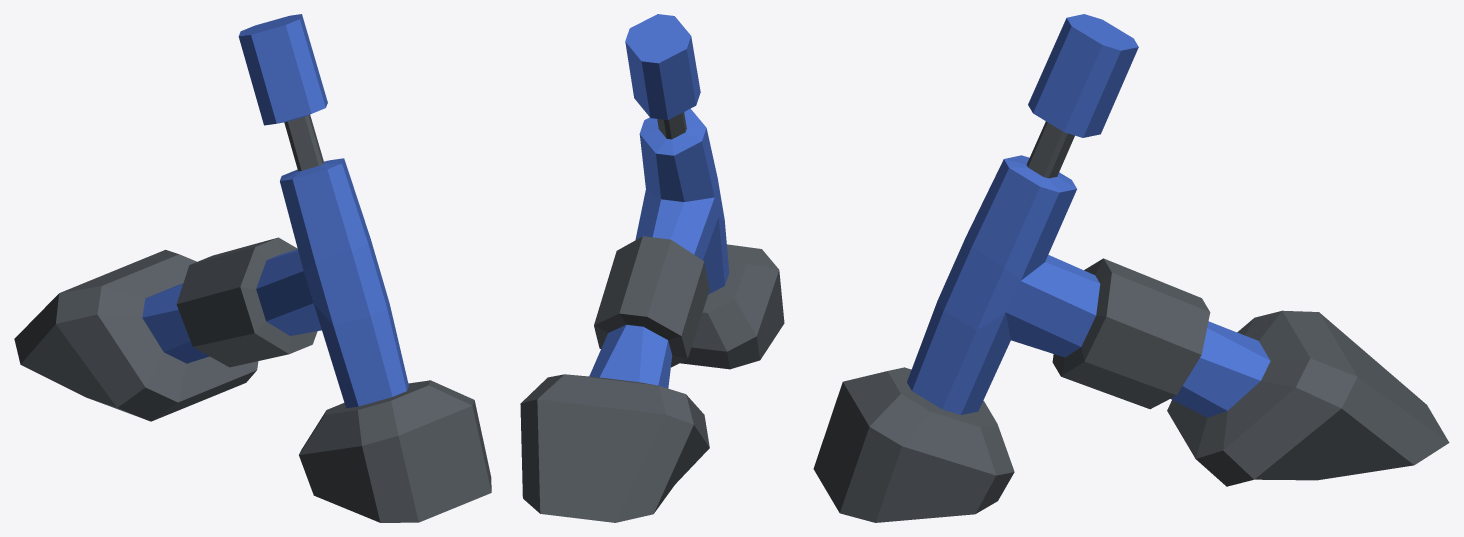
Rendered from Dropship_04_Lander_Rear_Right_Blue.fbx.
3 renders of one model, left to right at view 1: azimuth 30°, elevation 25°; view 2: azimuth 150°, elevation 25°; view 3: azimuth 270°, elevation 25°, orthographic. The views are drawn at different scales.
Visible parts, largest first — view 1: Dropship_04_Lander_Rear_Right_Blue; view 2: Dropship_04_Lander_Rear_Right_Blue; view 3: Dropship_04_Lander_Rear_Right_Blue.
Boxes of the visible parts, x1,y1,x2,y2 form: Dropship_04_Lander_Rear_Right_Blue: [14, 14, 491, 522]; Dropship_04_Lander_Rear_Right_Blue: [520, 14, 784, 522]; Dropship_04_Lander_Rear_Right_Blue: [813, 14, 1449, 522].
Bounding box in the file's own units: 136 × 227 × 289.
1 material, 1 textured.
